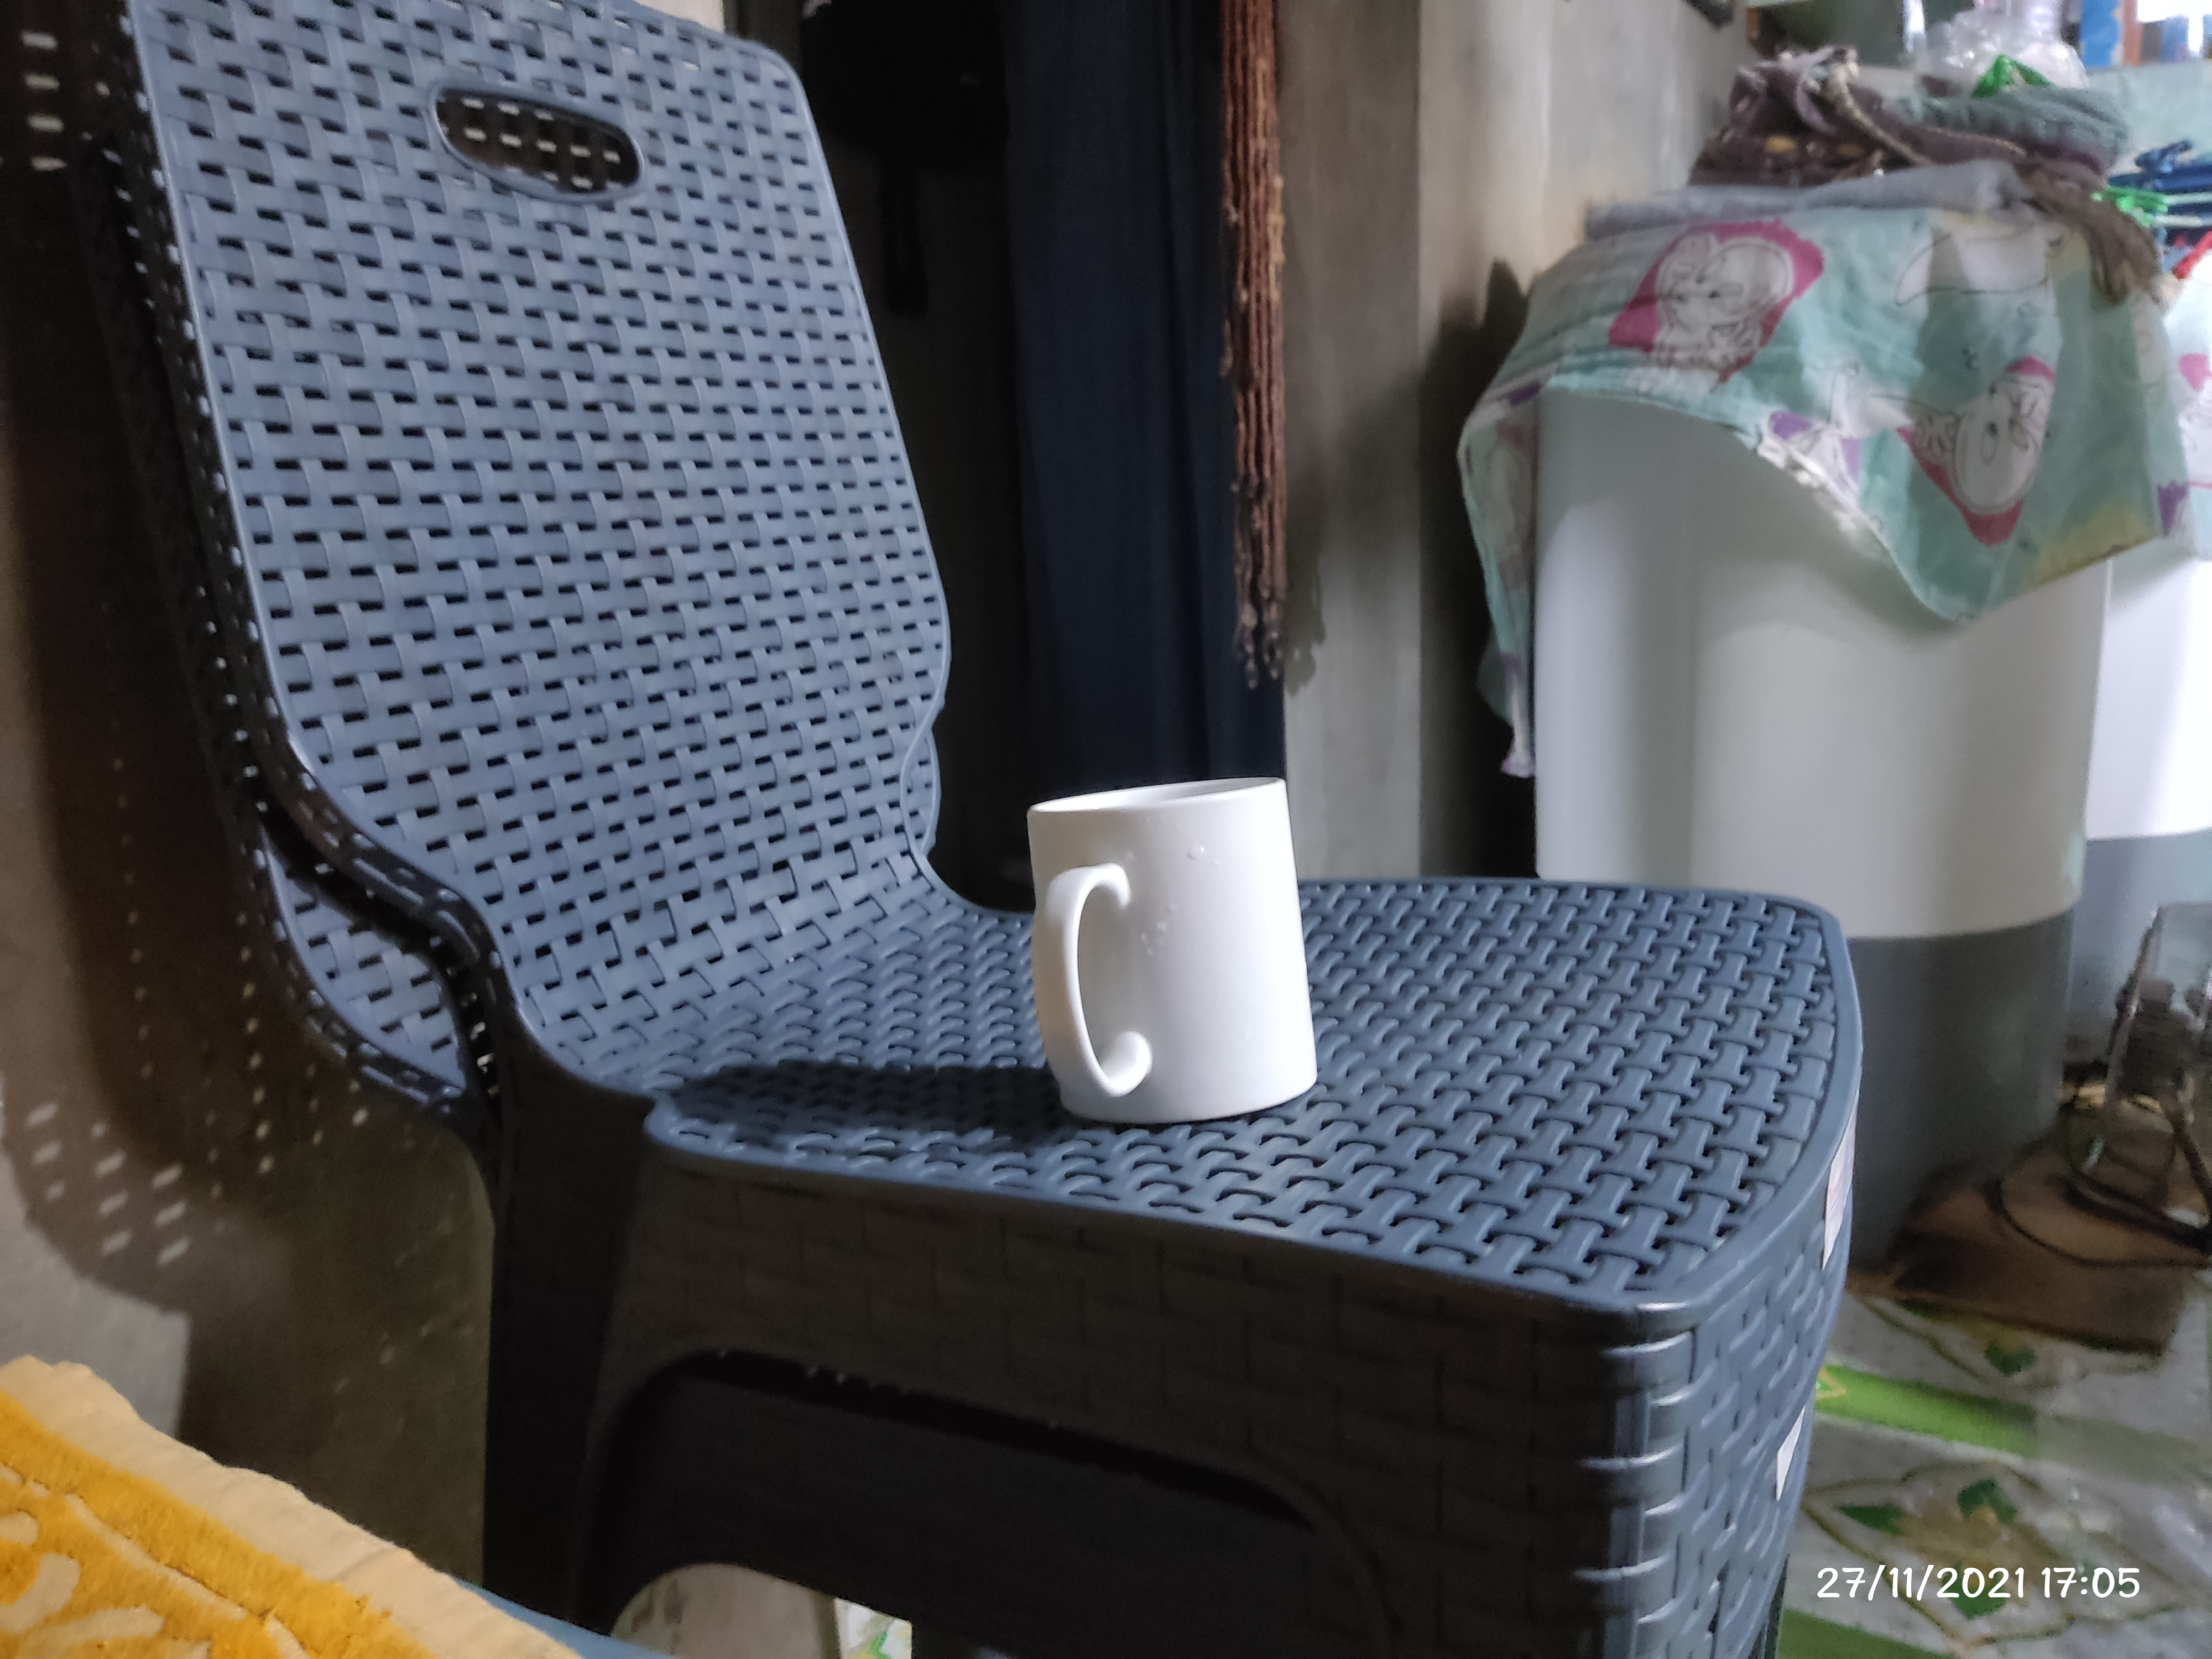mug: (1026, 774, 1318, 1112)
